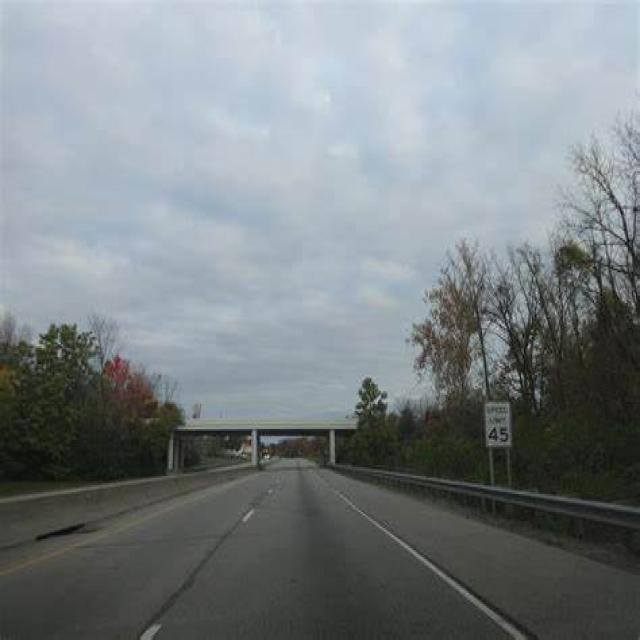speedLimit45: (485, 398, 514, 446)
